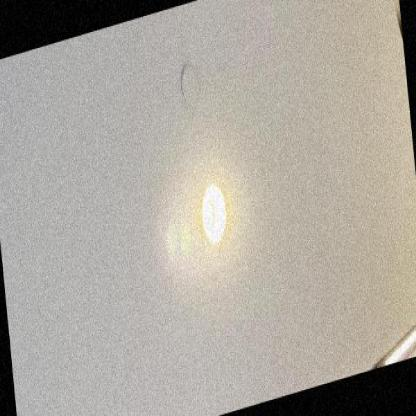light_on: (192, 156, 239, 268)
